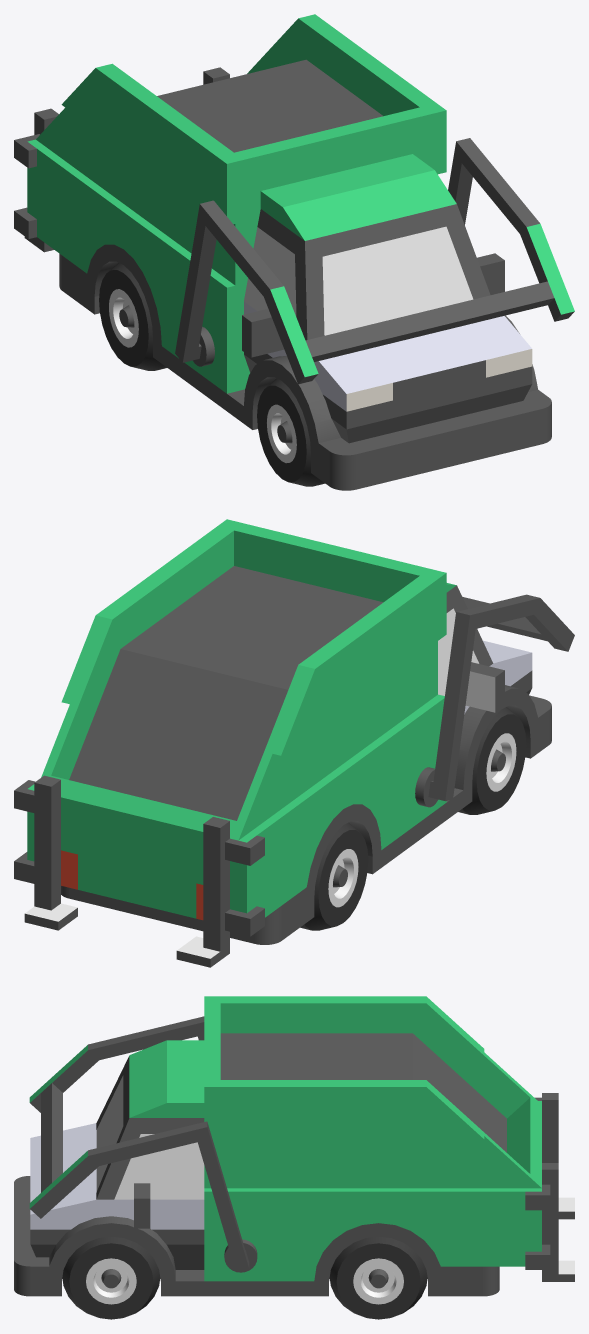
File: garbageTruck.obj
3 renders of one model, top to bottom at view 1: azimuth 30°, elevation 25°; view 2: azimuth 150°, elevation 25°; view 3: azimuth 270°, elevation 25°, orthographic. The views are drawn at different scales.
Parts seen in each view (by area): view 1: body, arm, wheel_frontRight, wheel_backRight; view 2: body, arm, wheel_backRight, wheel_frontRight; view 3: body, arm, wheel_backLeft, wheel_frontLeft.
Boxes of the visible parts, x1=… form: body: x1=14, y1=14, x2=551, y2=490; arm: x1=175, y1=138, x2=574, y2=384; wheel_frontRight: x1=257, y1=378, x2=324, y2=486; wheel_backRight: x1=99, y1=263, x2=166, y2=370; body: x1=14, y1=519, x2=551, y2=967; arm: x1=415, y1=594, x2=574, y2=807; wheel_backRight: x1=300, y1=822, x2=368, y2=930; wheel_frontRight: x1=458, y1=707, x2=526, y2=814; body: x1=14, y1=996, x2=574, y2=1296; arm: x1=29, y1=1016, x2=257, y2=1272; wheel_backLeft: x1=329, y1=1236, x2=427, y2=1319; wheel_frontLeft: x1=62, y1=1236, x2=160, y2=1319.
Bounding box in the file's own units: 1.2 × 1.2 × 2.55.
